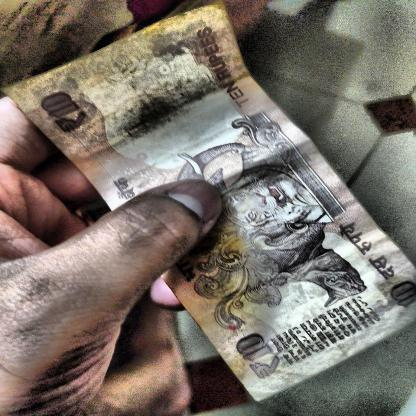Rs10: (28, 83, 103, 141), (225, 325, 295, 387)
